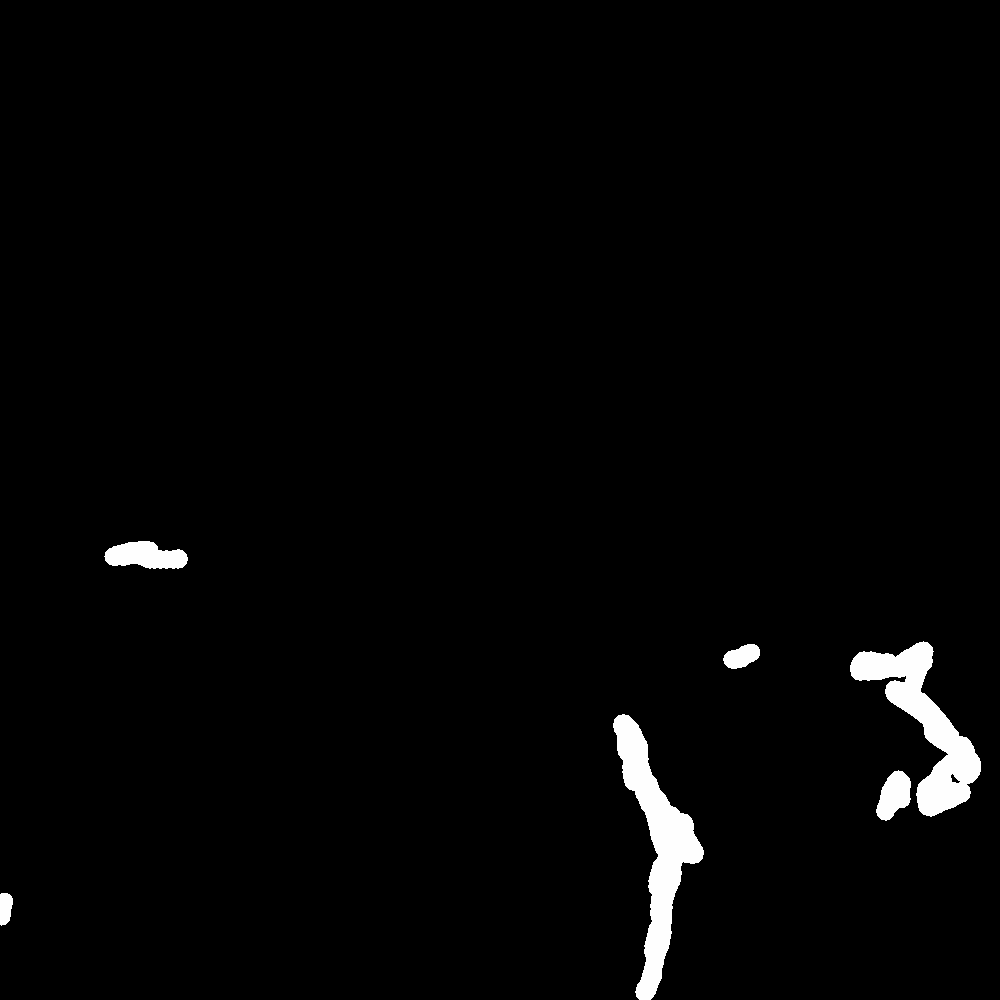illegal: (1, 574, 994, 983), (574, 705, 702, 1000), (844, 640, 982, 821), (110, 539, 190, 574)
